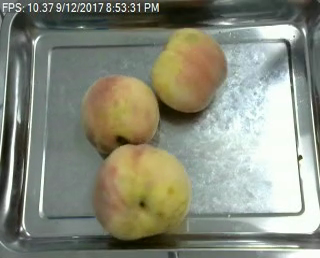Peach: (94, 145, 191, 239), (150, 27, 228, 113), (80, 74, 158, 152)
